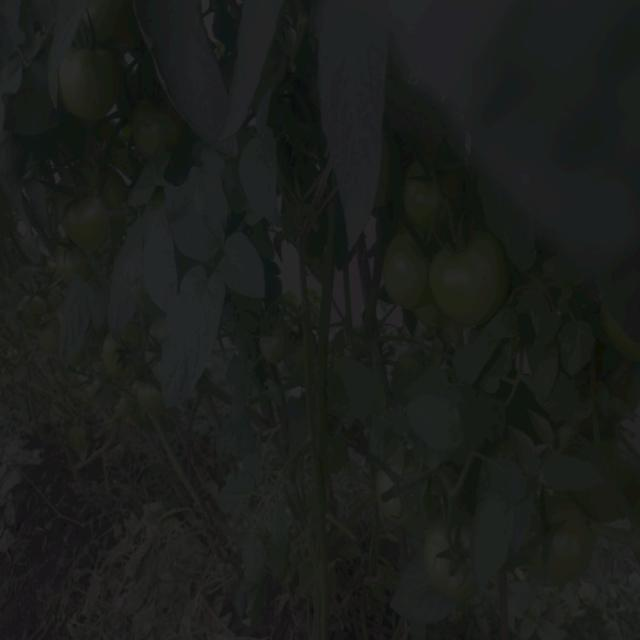tomato: (428, 225, 519, 330), (546, 500, 600, 593), (399, 168, 464, 241), (68, 53, 132, 124), (382, 235, 434, 317), (424, 521, 476, 600), (374, 459, 429, 526), (79, 6, 155, 54), (132, 105, 193, 153), (63, 198, 119, 247), (104, 334, 155, 382), (133, 366, 166, 419), (57, 246, 95, 287), (260, 317, 293, 361)
